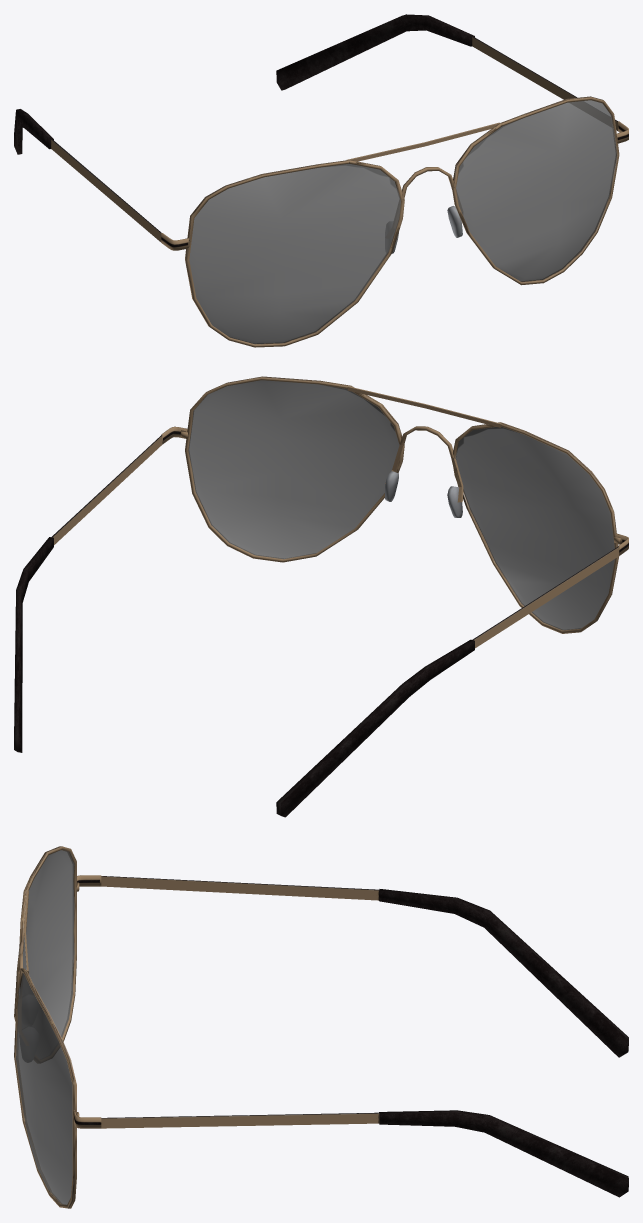
File: sunglasses_free.glb
The picture shows the model from 3 angles, top to bottom: view 1: azimuth 30°, elevation 25°; view 2: azimuth 150°, elevation 25°; view 3: azimuth 270°, elevation 25°; orthographic projection. The views are drawn at different scales.
Parts seen in each view (by area): view 1: defaultMaterial; view 2: defaultMaterial; view 3: defaultMaterial.
Part boxes in pixels (bbox=[...]): defaultMaterial: bbox=[14, 14, 628, 347]; defaultMaterial: bbox=[14, 376, 628, 817]; defaultMaterial: bbox=[14, 846, 628, 1208].
Size of the model in its own units: 1.87 by 0.7047 by 2.
Materials: 1 (1 with a texture image).
